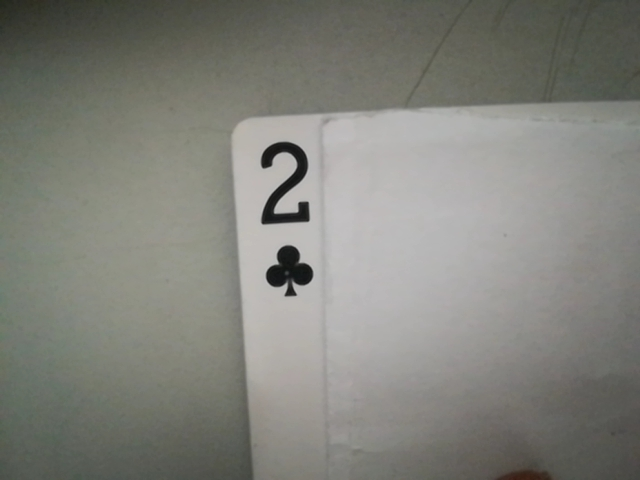mh 2: (244, 130, 329, 300)
